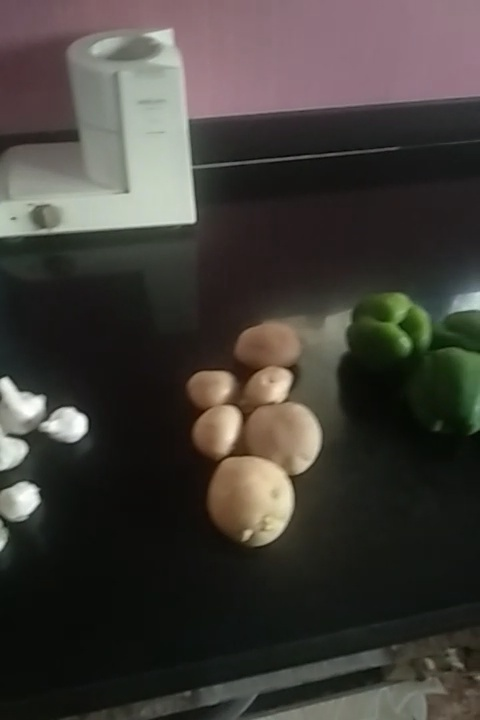capsicum: (339, 293, 427, 383), (419, 357, 480, 445), (437, 305, 479, 353)
garlic: (43, 400, 94, 448), (1, 377, 43, 435), (2, 483, 46, 521), (1, 433, 28, 468)
potato: (207, 454, 295, 544), (240, 406, 328, 474), (189, 408, 249, 462), (232, 321, 301, 361), (182, 371, 240, 406), (234, 367, 293, 400)
